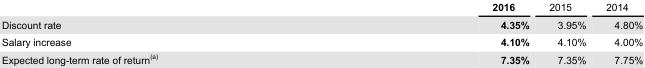table: (0, 0, 642, 65)
table column: (0, 0, 324, 65), (324, 0, 538, 65), (538, 0, 595, 65), (595, 0, 642, 65)
table column header: (0, 0, 642, 15)
table row: (0, 15, 642, 32), (0, 32, 642, 49), (0, 49, 642, 65), (0, 0, 642, 15)
